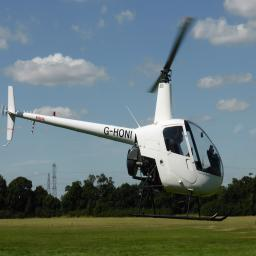helicopter: (1, 17, 233, 223)
